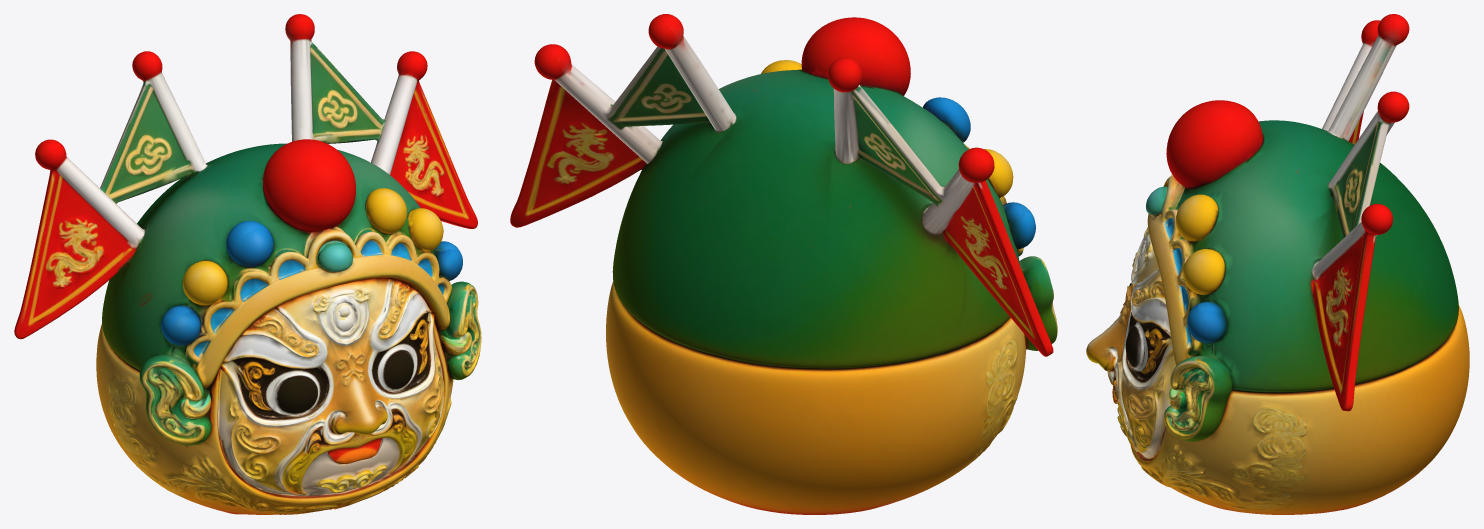
File: 金色变脸.glb
3 views of the same model, side by side, from view 1: azimuth 30°, elevation 25°; view 2: azimuth 150°, elevation 25°; view 3: azimuth 270°, elevation 25° (orthographic). The views are drawn at different scales.
Visible parts, largest first — view 1: node_0; view 2: node_0; view 3: node_0.
Boxes of the visible parts, x1=… form: node_0: x1=14, y1=14, x2=481, y2=514; node_0: x1=510, y1=14, x2=1057, y2=514; node_0: x1=1086, y1=14, x2=1469, y2=514.
Bounding box in the file's own units: 1.12 × 0.9276 × 0.7744.
1 material, 1 textured.
